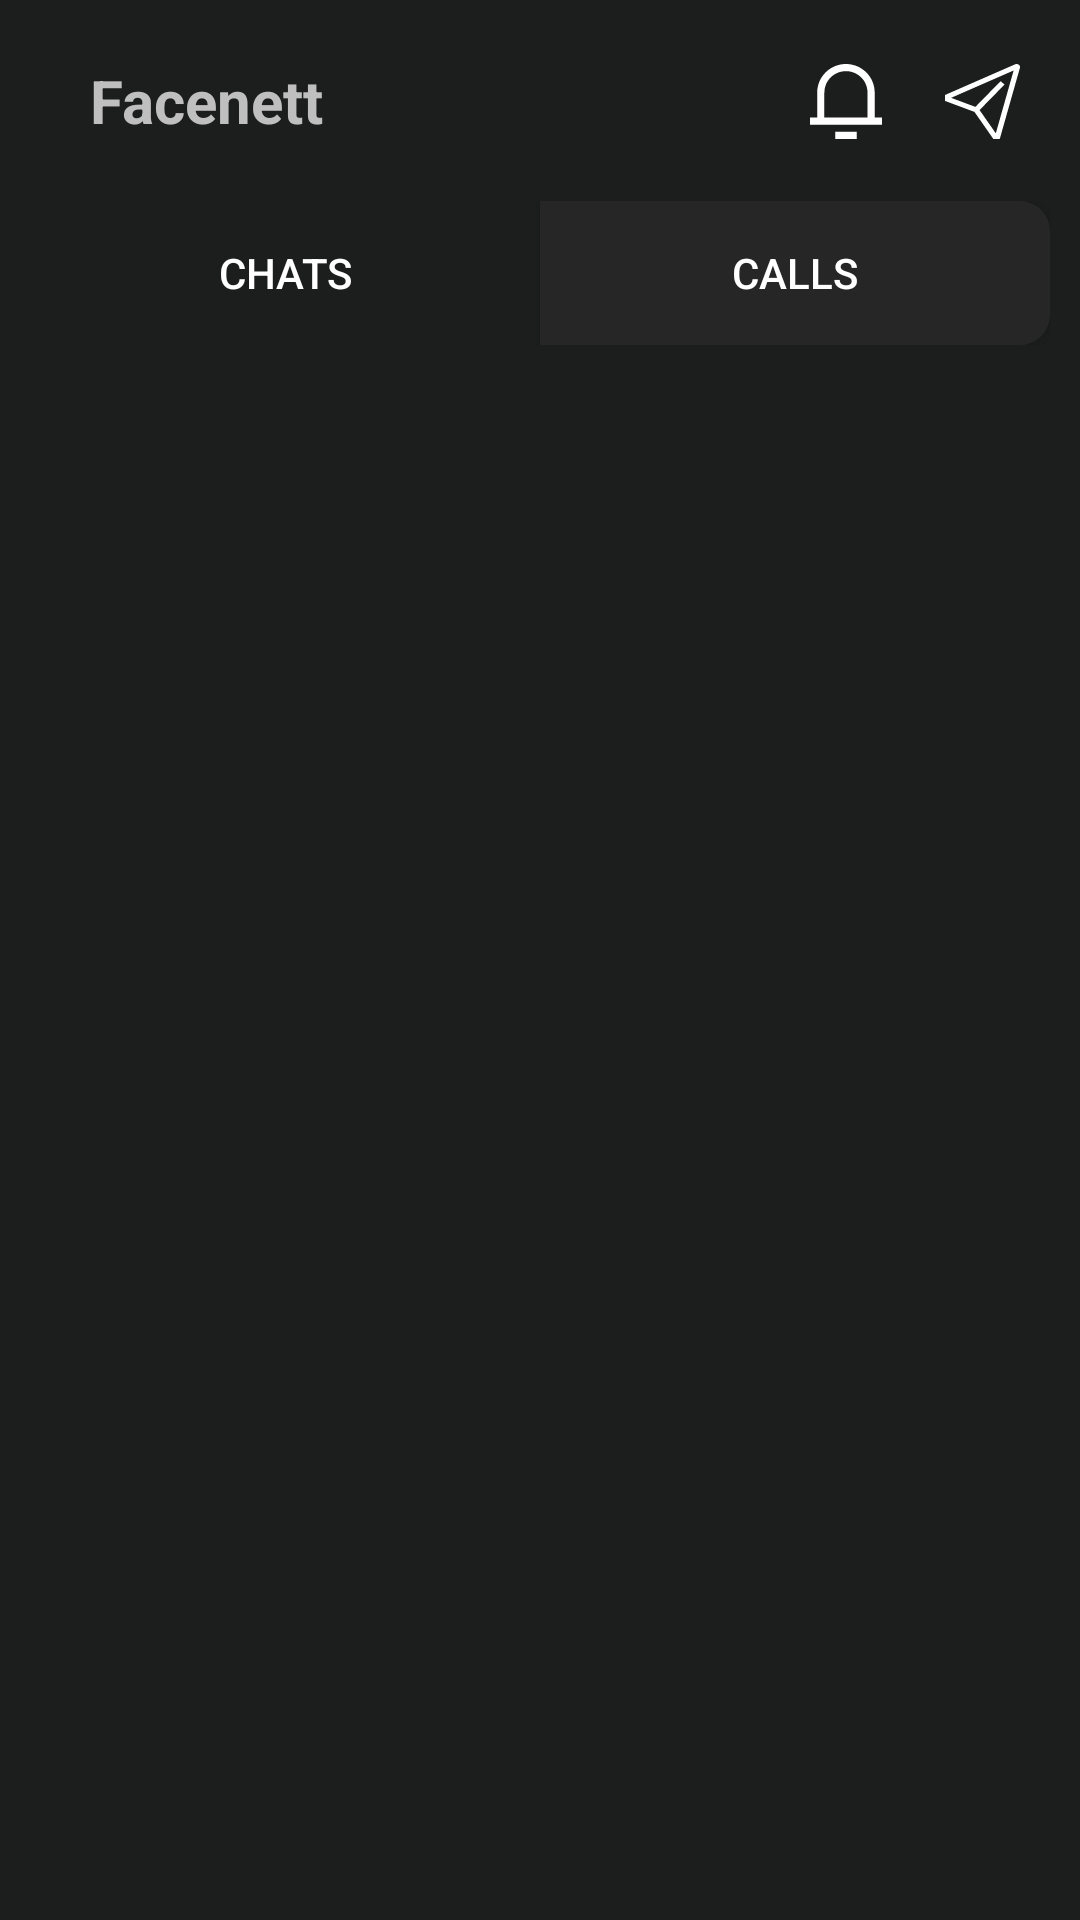

Where to tap for icons on this 1080px×1920px app screen, as (x,y):
fly: (982,101)
ring: (846,101)
